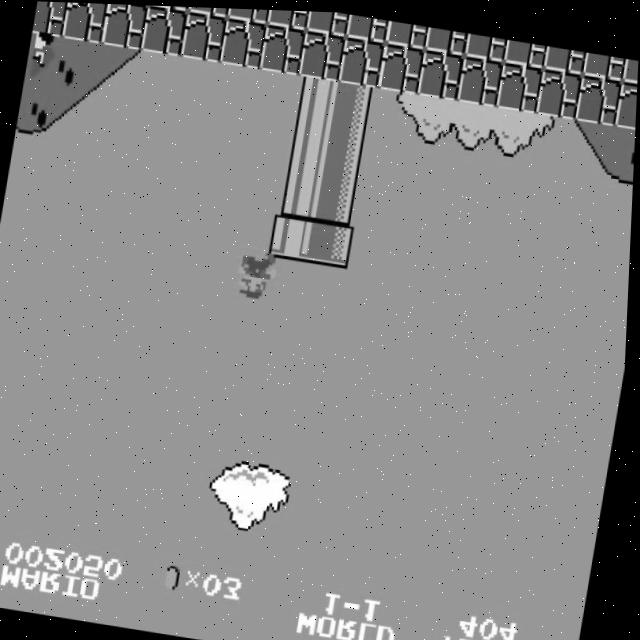11- little_mario: (230, 246, 281, 301)
14- pipe: (284, 117, 332, 170), (291, 73, 339, 125), (316, 169, 364, 221), (323, 124, 371, 176), (331, 79, 379, 131), (277, 164, 325, 215)
15- pipe_head: (309, 214, 357, 267), (270, 208, 318, 260)
17- undestructible_block: (298, 27, 346, 80), (338, 33, 386, 86), (417, 45, 465, 98), (456, 51, 504, 104), (575, 69, 623, 122), (219, 15, 267, 67), (259, 21, 307, 73), (377, 39, 425, 91), (180, 9, 227, 62), (536, 63, 583, 116), (140, 4, 188, 55), (496, 58, 543, 110), (100, 3, 148, 49), (61, 2, 108, 43), (424, 23, 468, 53), (543, 41, 587, 71), (582, 47, 626, 77), (32, 1, 68, 37), (345, 11, 389, 40), (384, 17, 428, 46), (463, 29, 507, 58), (503, 35, 547, 64), (614, 75, 638, 127), (305, 9, 349, 34), (265, 8, 309, 28), (227, 7, 270, 22), (622, 53, 639, 82), (187, 5, 230, 16)
8- goomba: (25, 29, 58, 82)
